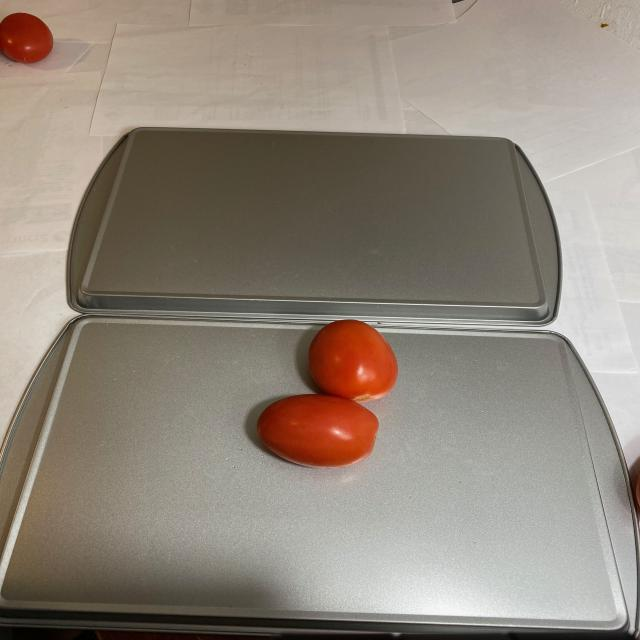tomato: (257, 317, 402, 468), (0, 12, 58, 70)
